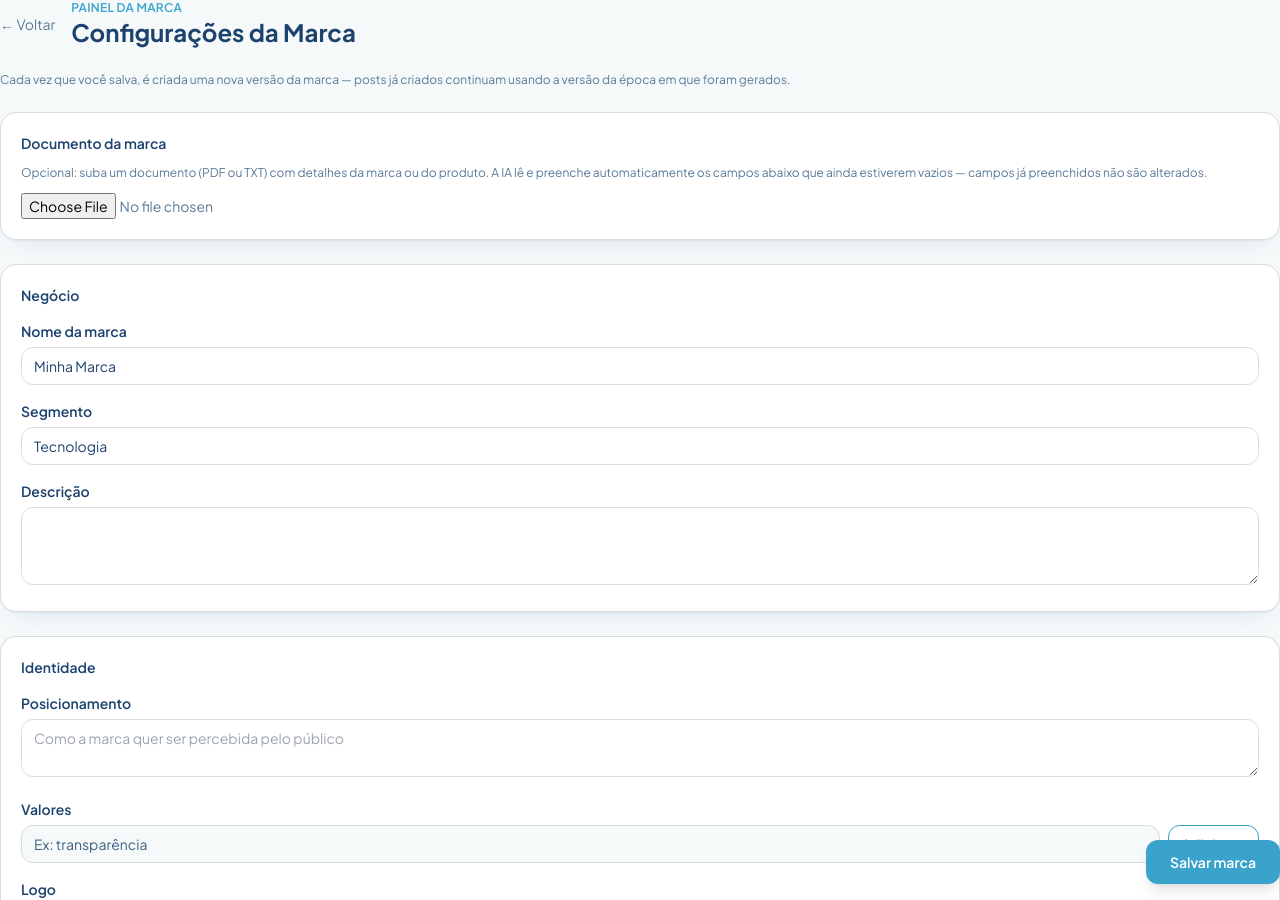
Scenario: BrandSettingsPage — paywall de limite de plano › mostra o erro genérico quando a falha não é de limite de plano
Click the button "Salvar marca" at (1213, 862), box 1146,840 -> 1279,884
(page scrolled)
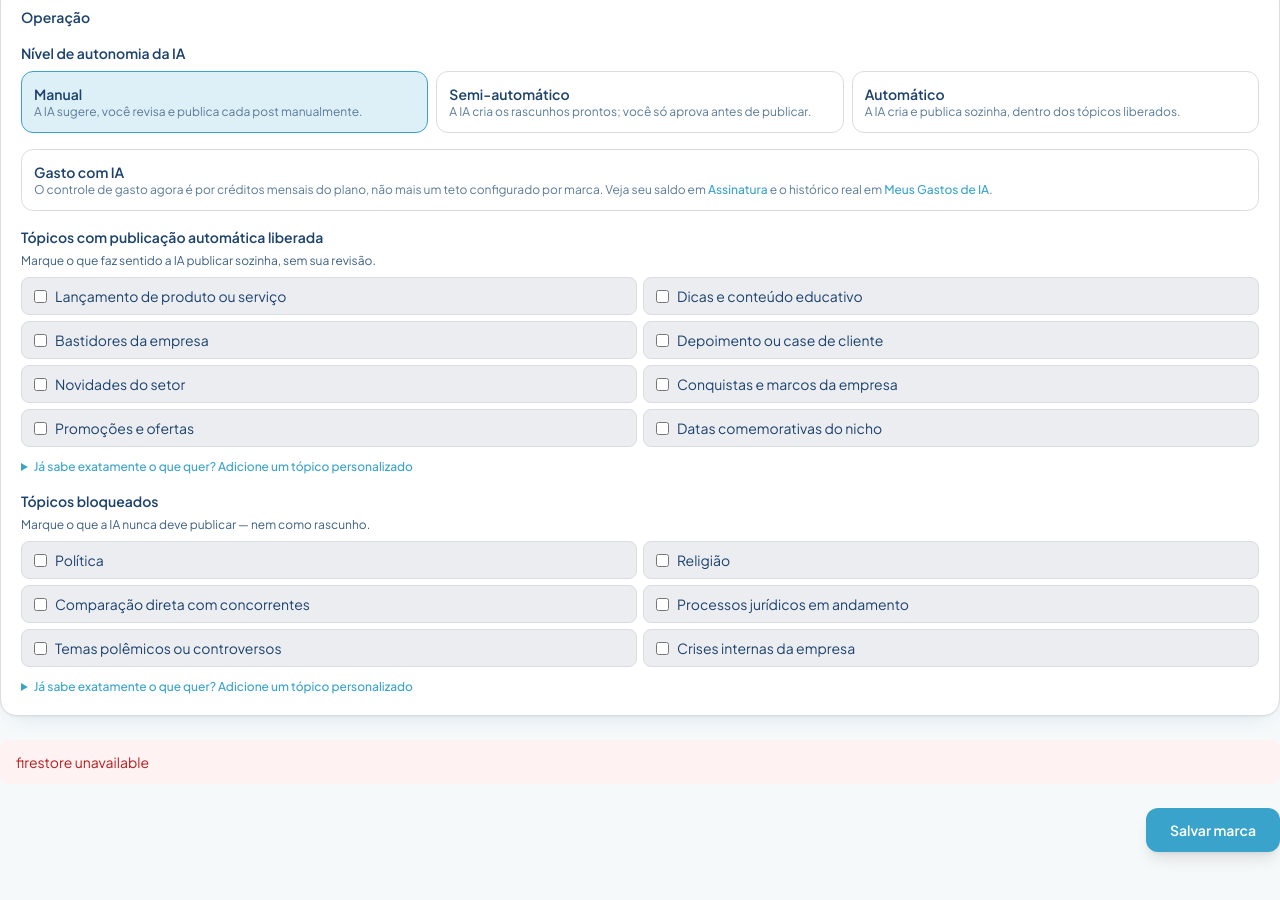
Result: the text "firestore unavailable" is shown at 0,740 -> 1279,784
